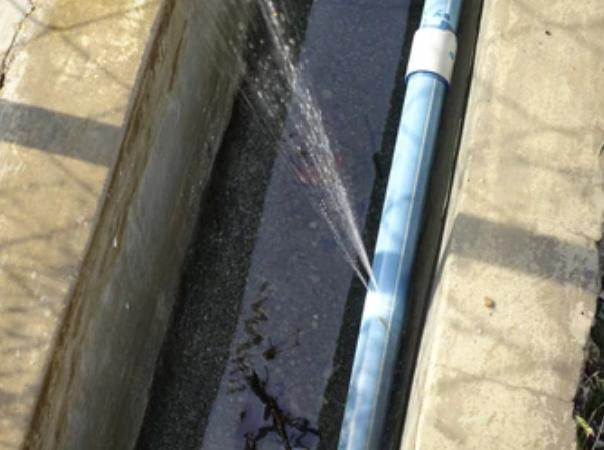pipe burst: (180, 0, 384, 298)
water accumulation: (132, 0, 423, 449)
